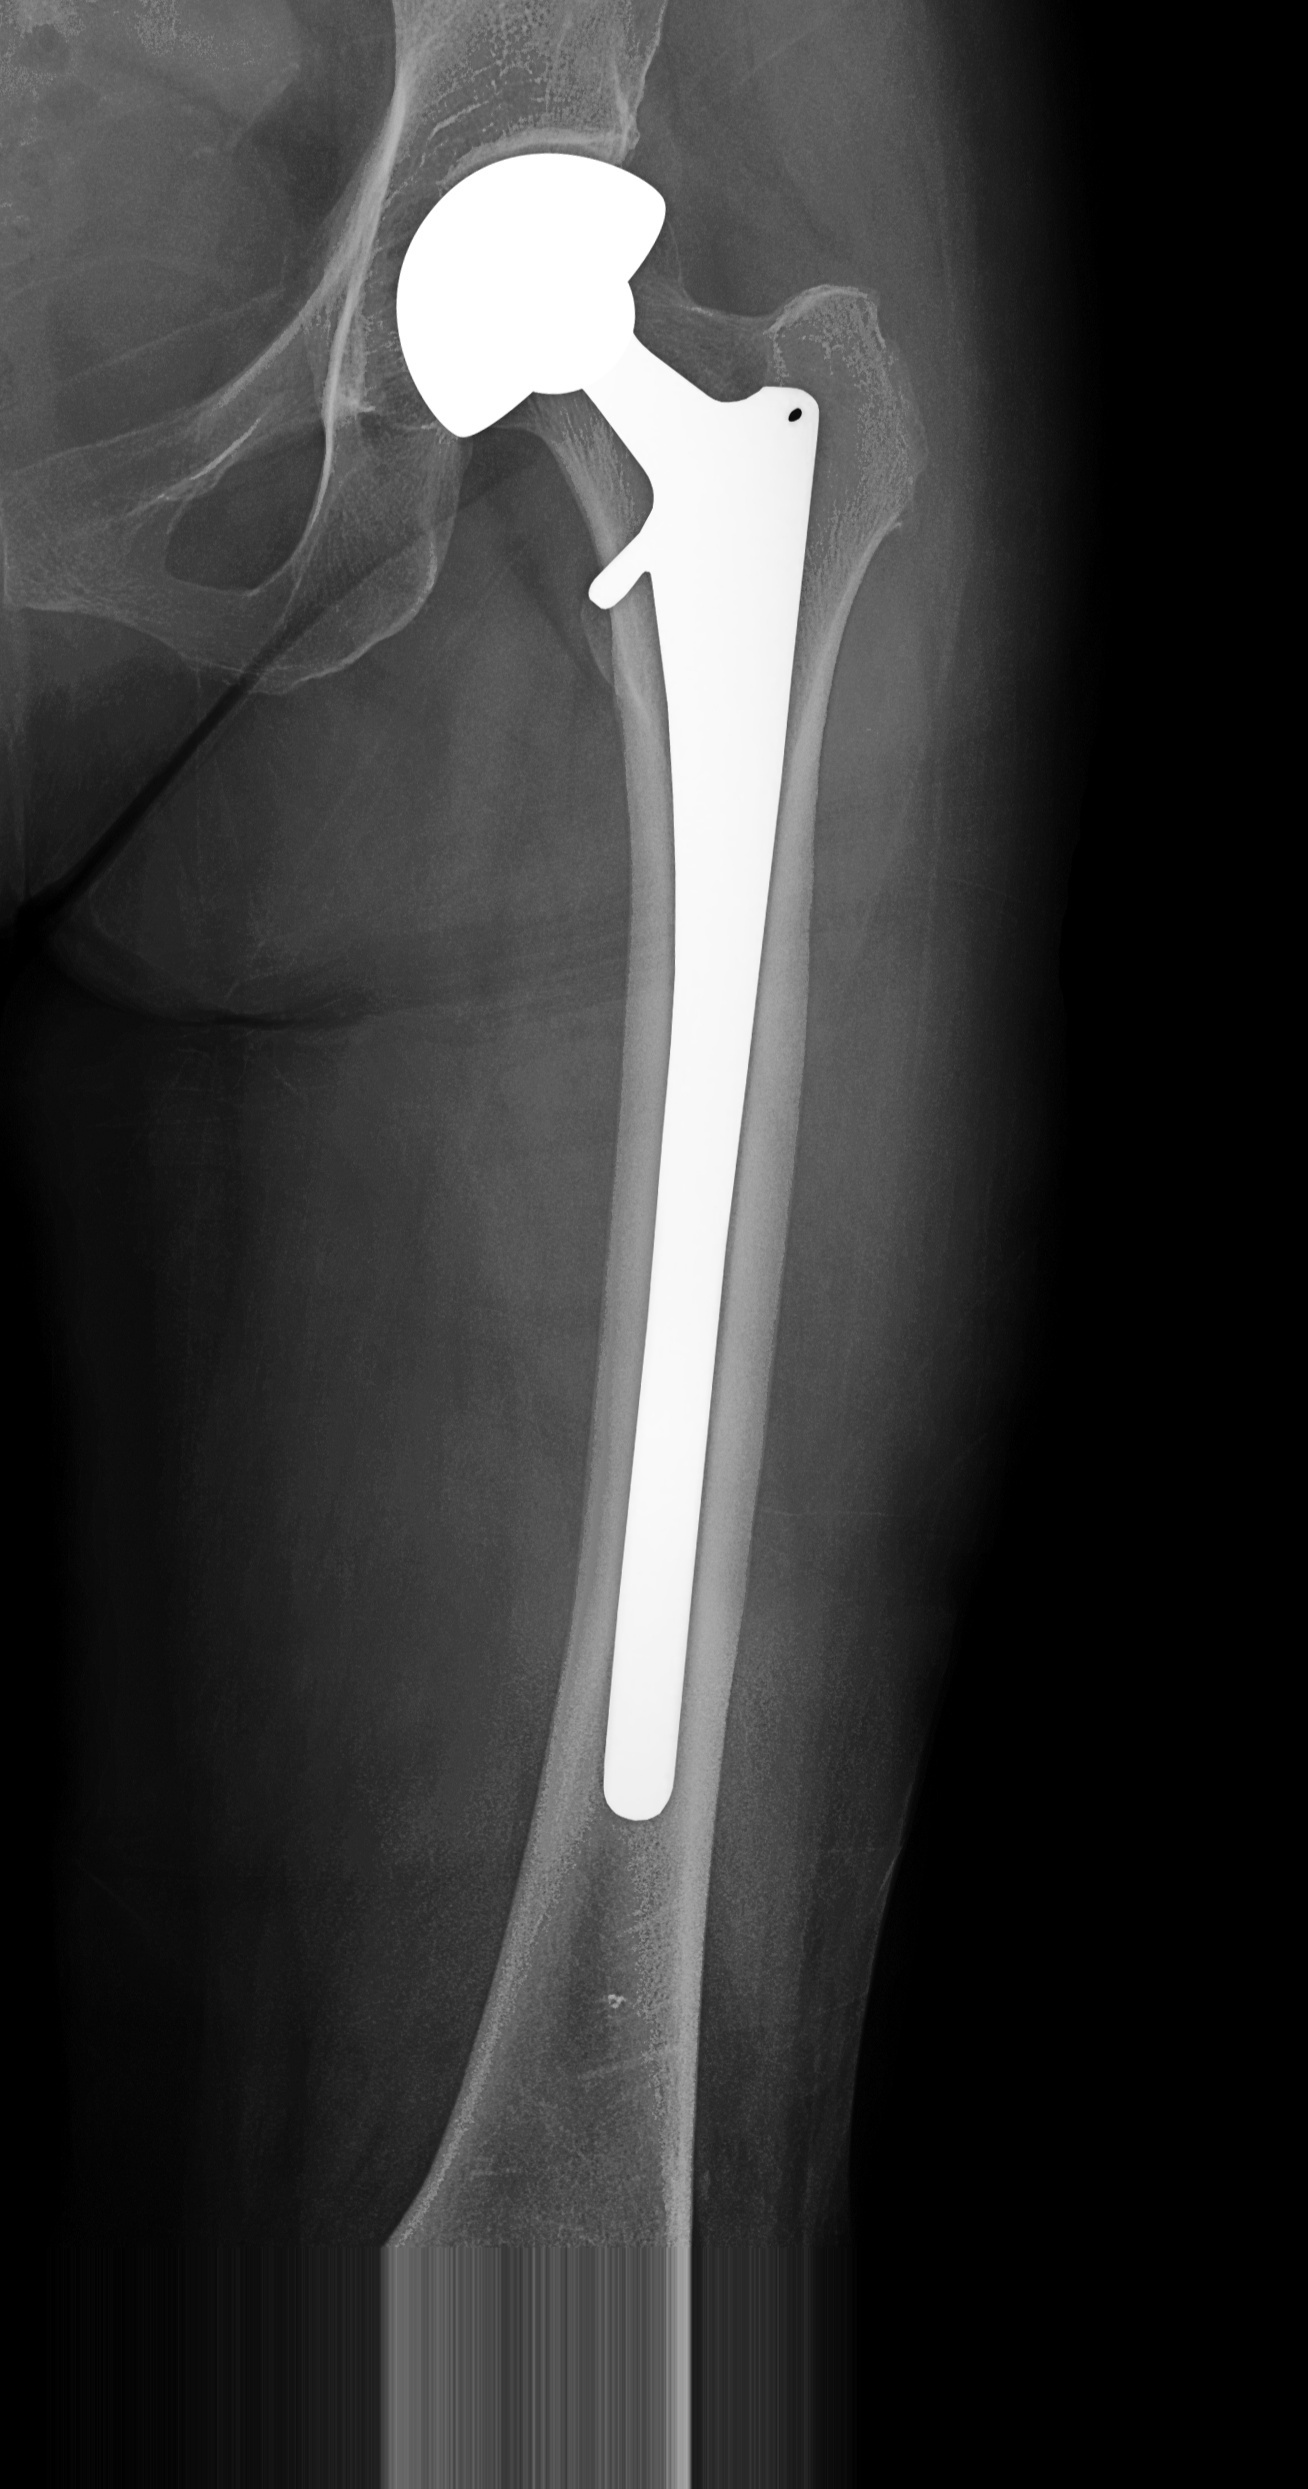Hip - Bias - Zimmer: (354, 87, 847, 1891)
